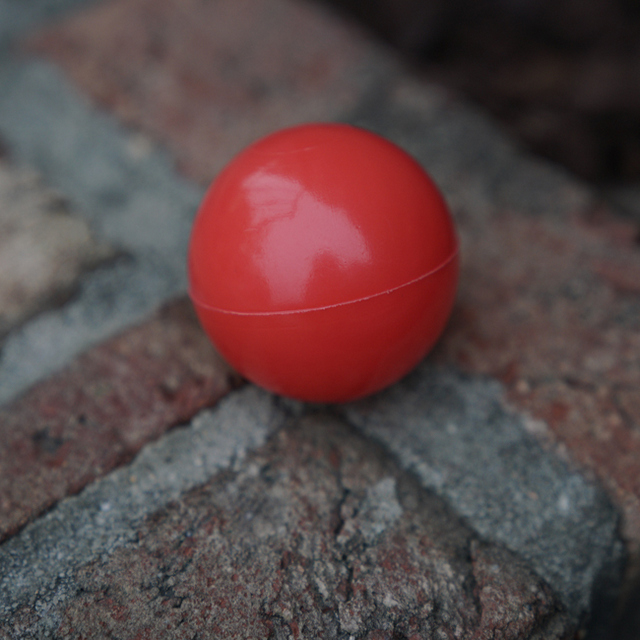Ball: (192, 122, 455, 405)
